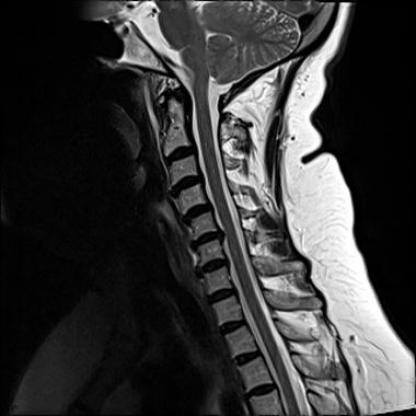Disc Bulgerotation: (188, 231, 224, 246)
